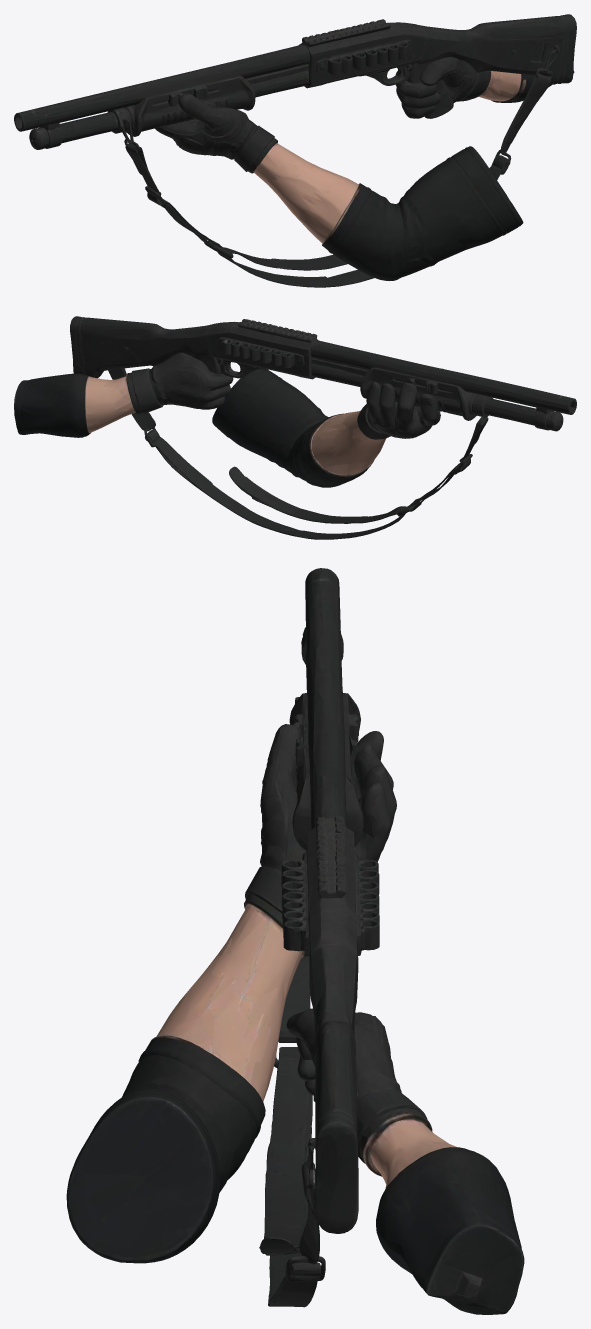
3 views of the same model, one above another, from view 1: azimuth 30°, elevation 25°; view 2: azimuth 150°, elevation 25°; view 3: azimuth 270°, elevation 25° (orthographic). The views are drawn at different scales.
Visible parts, largest first — view 1: output_unwrapped; view 2: output_unwrapped; view 3: output_unwrapped.
Boxes of the visible parts, x1,y1,x2,y2 form: output_unwrapped: (14,14,576,287); output_unwrapped: (14,316,576,539); output_unwrapped: (66,568,524,1314).
Size of the model in its own units: 1.9 by 0.7396 by 0.722.
1 material, 1 textured.
